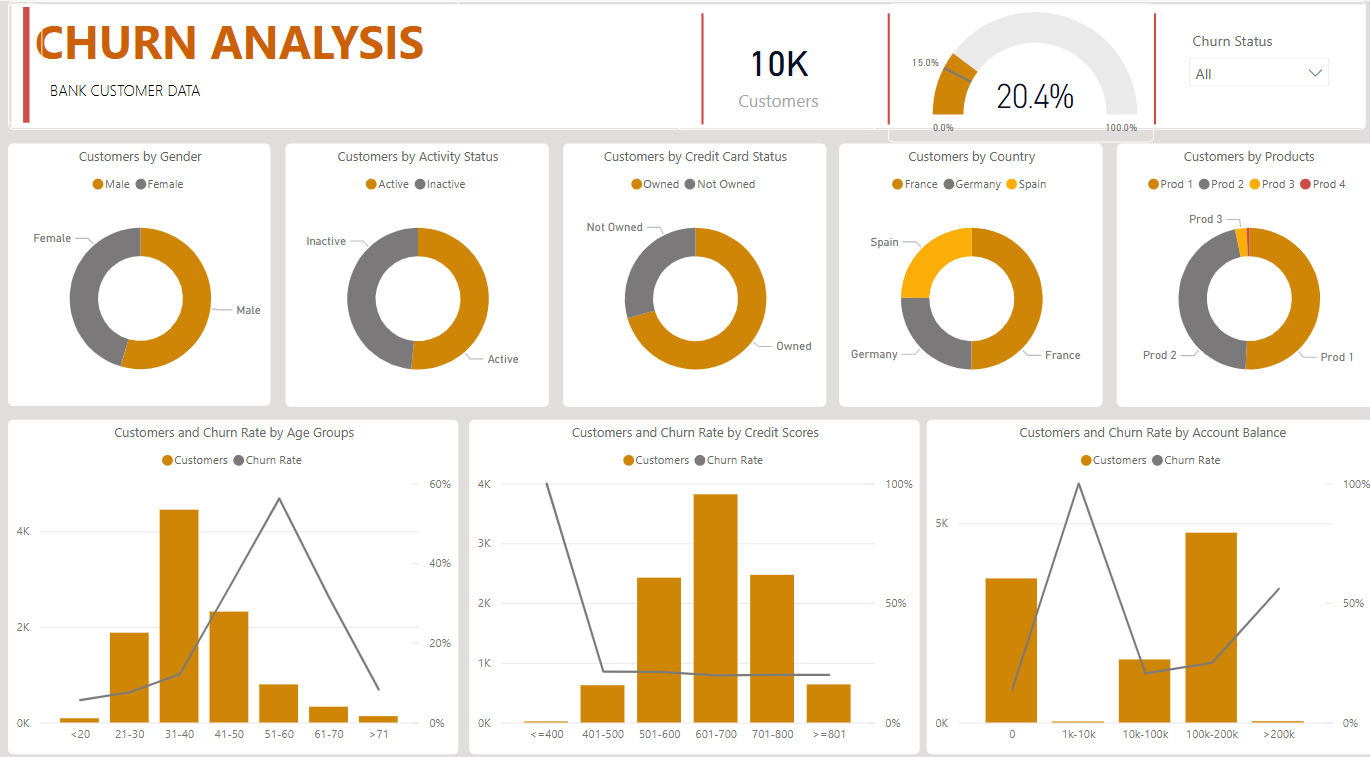

The page's visual inventory and layout, read from the dashboard file:
{"tool":"powerbi","page":{"name":"Bank Customer Churn Analysis ","canvas":[1280,720],"ordinal":0},"visuals":[{"type":"shape","box":[0,0,1276.8,119.7],"z":0},{"type":"card","fields":{"Values":["Customer Data.Customers"]},"box":[623.3,10.1,187.6,109.6],"z":1000},{"type":"donutChart","fields":{"Category":["Customer Data.Gender"],"Y":["Customer Data.Customers"]},"box":[0,132.6,245,245],"z":2000},{"type":"donutChart","title":"Customers by Activity Status","fields":{"Y":["Customer Data.Customers"],"Category":["Customer Data.Activity Status"]},"box":[258.4,132.4,245.3,245.3],"z":3000},{"type":"donutChart","title":"Customers by Credit Card Status","fields":{"Y":["Customer Data.Customers"],"Category":["Customer Data.Credit Card Status"]},"box":[517.1,132.4,245.3,245.3],"z":4000},{"type":"donutChart","title":"Customers by Country","fields":{"Y":["Customer Data.Customers"],"Category":["Customer Data.Country"]},"box":[775.8,132.4,245.3,245.3],"z":5000},{"type":"donutChart","title":"Customers by Products","fields":{"Y":["Customer Data.Customers"],"Category":["Customer Data.Products"]},"box":[1034.5,132.4,245.3,245.3],"z":6000},{"type":"lineClusteredColumnComboChart","fields":{"Category":["Age Groups.Age Groups"],"Y":["Customer Data.Customers"],"Y2":["Customer Data.Churn Rate"]},"box":[0,391,420,311.6],"z":7000},{"type":"lineClusteredColumnComboChart","fields":{"Y":["Customer Data.Customers"],"Y2":["Customer Data.Churn Rate"],"Category":["Credit Score Groups.Credit Scores"]},"box":[429.9,391,420,311.6],"z":8000},{"type":"lineClusteredColumnComboChart","fields":{"Y":["Customer Data.Customers"],"Y2":["Customer Data.Churn Rate"],"Category":["Account Balance Groups.Account Balance"]},"box":[857,391,420,311.6],"z":9000},{"type":"slicer","fields":{"Values":["Customer Data.Churn Status"]},"box":[1089.3,20.2,155.8,89.5],"z":10000},{"type":"gauge","fields":{"Y":["Customer Data.Churn Rate"],"MinValue":["Min(Customer Data.Min Churn Rate)"],"MaxValue":["Max(Customer Data.Max Churn Rate)"],"TargetValue":["Max(Customer Data.Target Churn Rate)"]},"box":[820.9,2.9,248.2,129.8],"z":11000},{"type":"textbox","box":[17.3,0,404,101],"z":12000},{"type":"textbox","box":[31.7,64.9,300.1,49.1],"z":13000},{"type":"shape","box":[640.6,7.7,13,108.2],"z":14000},{"type":"shape","box":[1061.9,7.7,13,108.2],"z":15000},{"type":"shape","box":[813.7,7.7,13,108.2],"z":16000},{"type":"shape","box":[0,2.9,31.7,112.5],"z":17000}]}

Visuals, with their boxes in screenshot pixels (x1, y1, x2, y2), scaled from the page's 1280x720 canvas onto the 1370x757 screenshot:
shape: box(0, 0, 1367, 126)
card - Customer Data.Customers: box(667, 11, 868, 126)
donutChart - Customer Data.Gender x Customer Data.Customers: box(0, 139, 262, 397)
"Customers by Activity Status" donutChart: box(277, 139, 539, 397)
"Customers by Credit Card Status" donutChart: box(553, 139, 816, 397)
"Customers by Country" donutChart: box(830, 139, 1093, 397)
"Customers by Products" donutChart: box(1107, 139, 1369, 397)
lineClusteredColumnComboChart - Age Groups.Age Groups x Customer Data.Customers: box(0, 411, 450, 739)
lineClusteredColumnComboChart - Customer Data.Customers x Customer Data.Churn Rate: box(460, 411, 910, 739)
lineClusteredColumnComboChart - Customer Data.Customers x Customer Data.Churn Rate: box(917, 411, 1367, 739)
slicer - Customer Data.Churn Status: box(1166, 21, 1333, 115)
gauge - Customer Data.Churn Rate x Min(Customer Data.Min Churn Rate): box(879, 3, 1144, 140)
textbox: box(19, 0, 451, 106)
textbox: box(34, 68, 355, 120)
shape: box(686, 8, 700, 122)
shape: box(1137, 8, 1150, 122)
shape: box(871, 8, 885, 122)
shape: box(0, 3, 34, 121)
